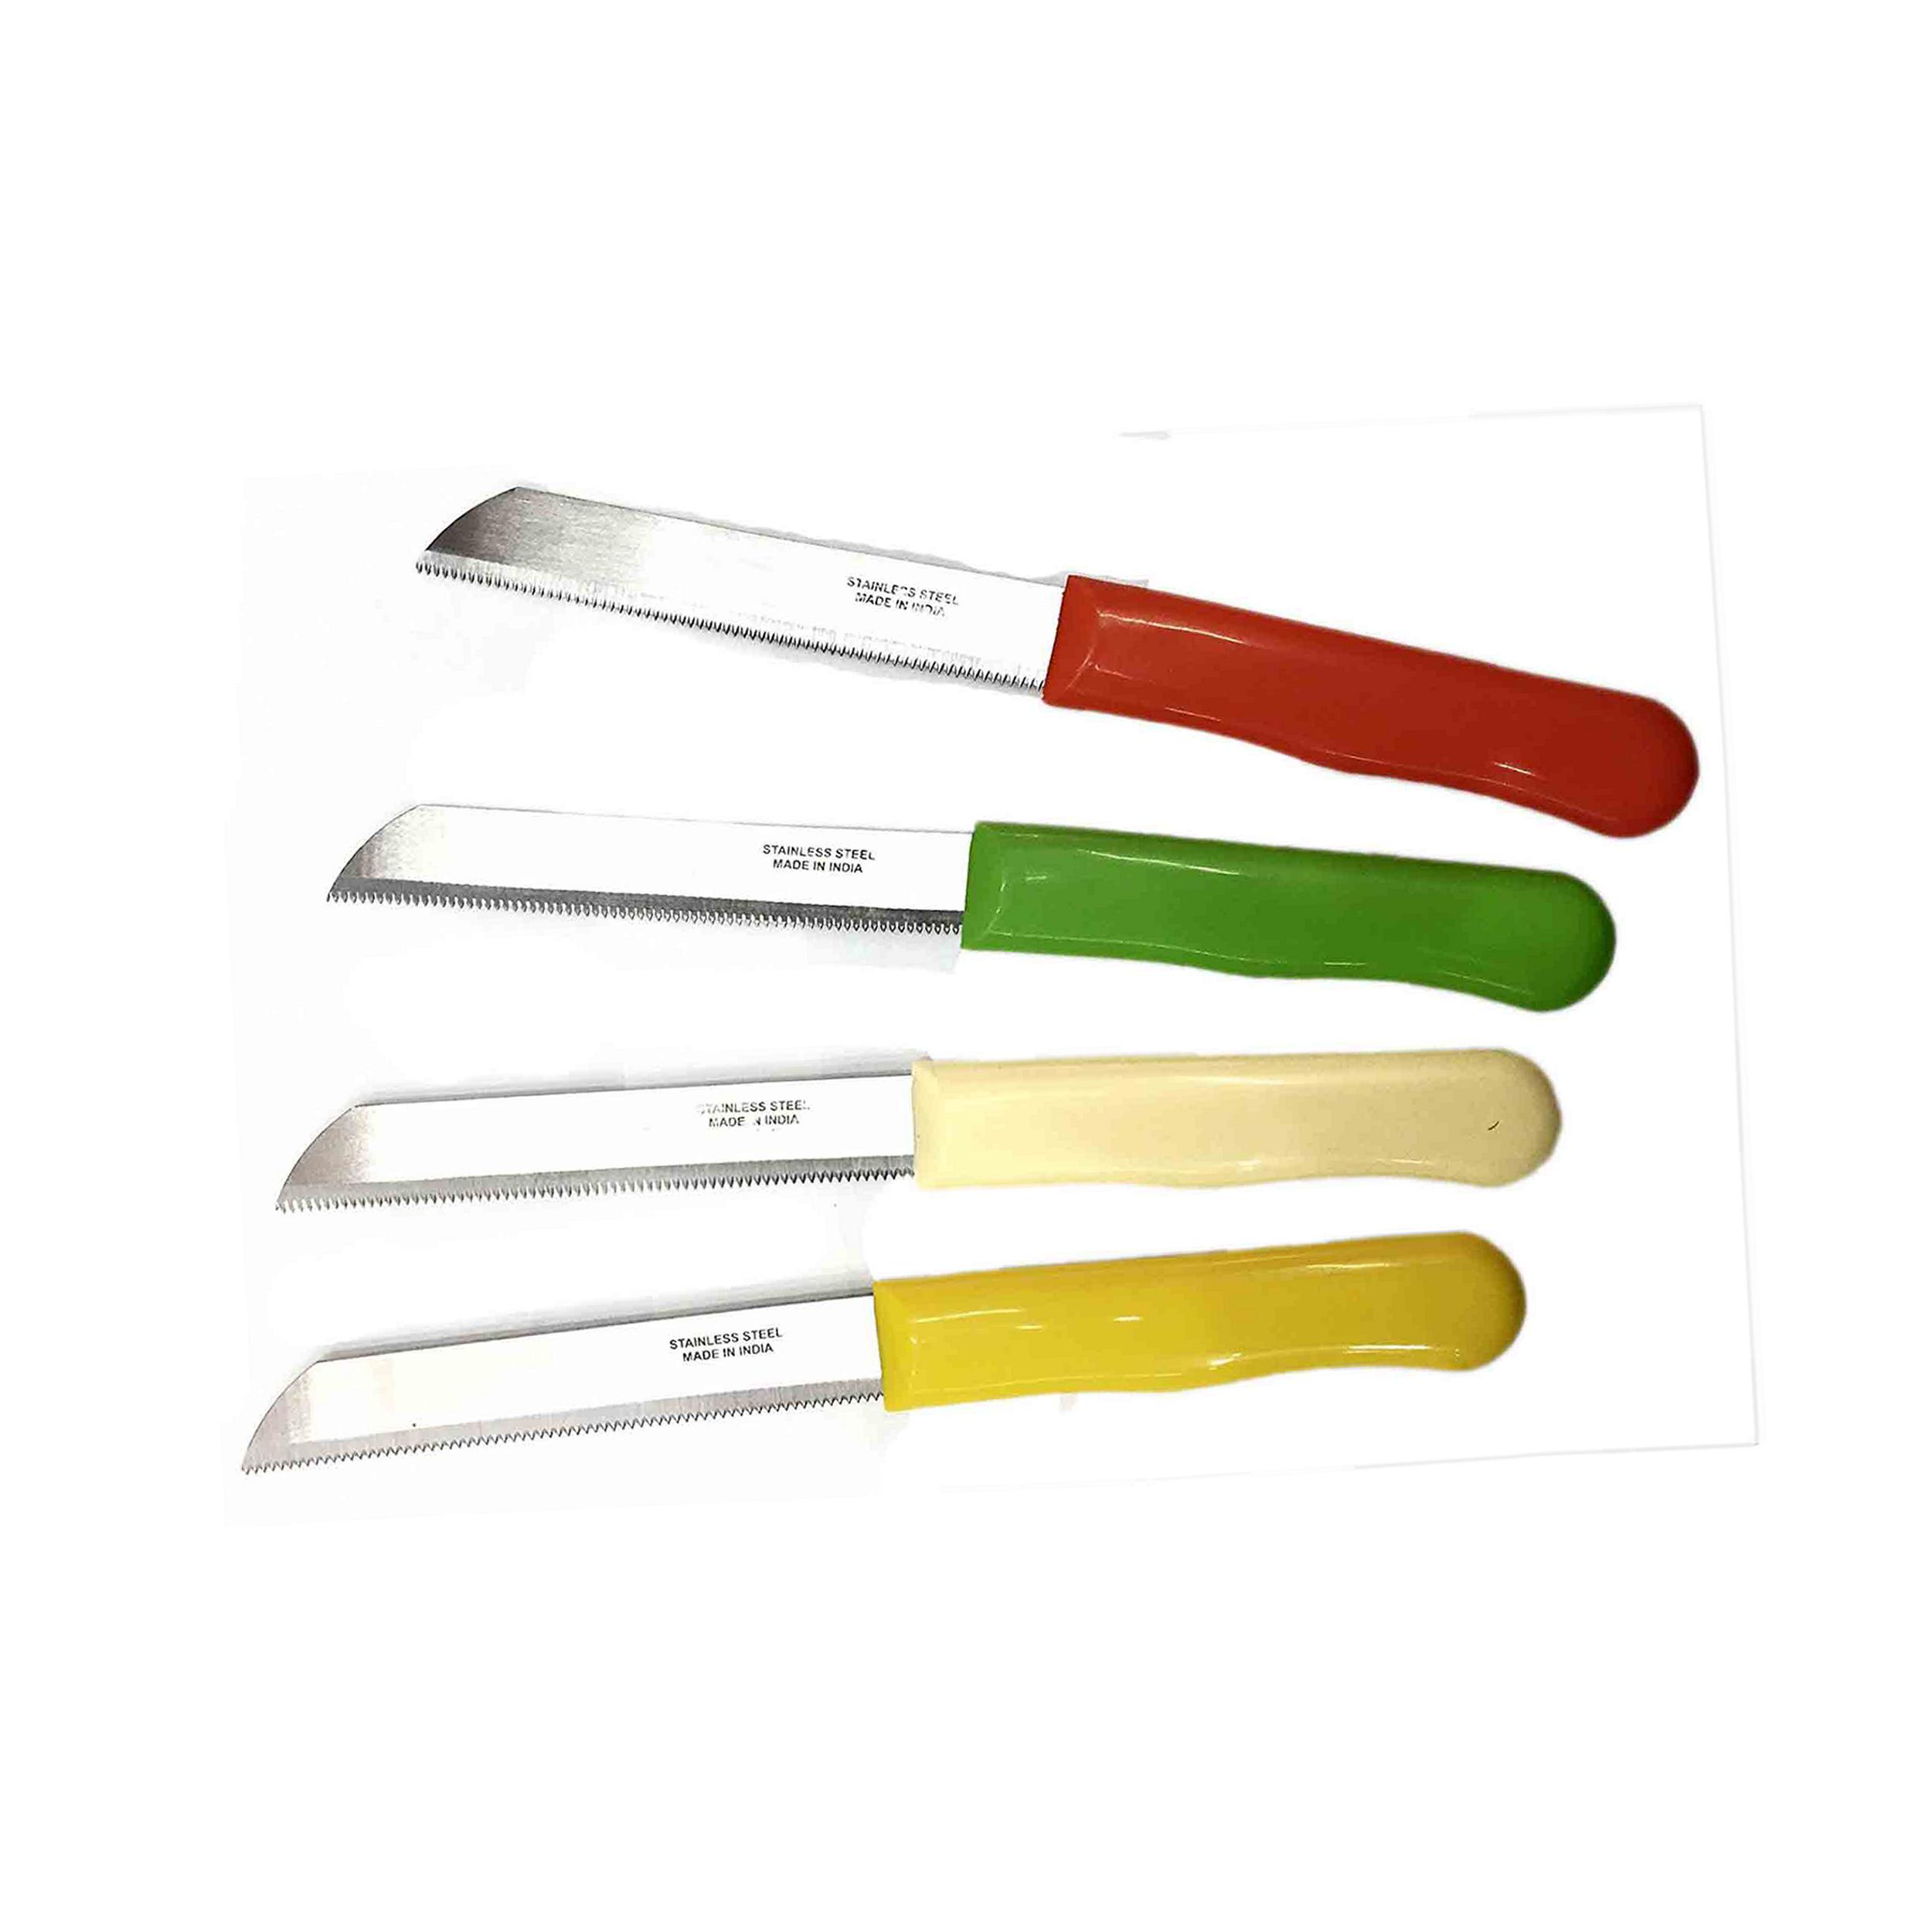knife: (414, 495, 1702, 837), (244, 1233, 1537, 1474), (318, 800, 1619, 1010), (281, 1046, 1562, 1228)
